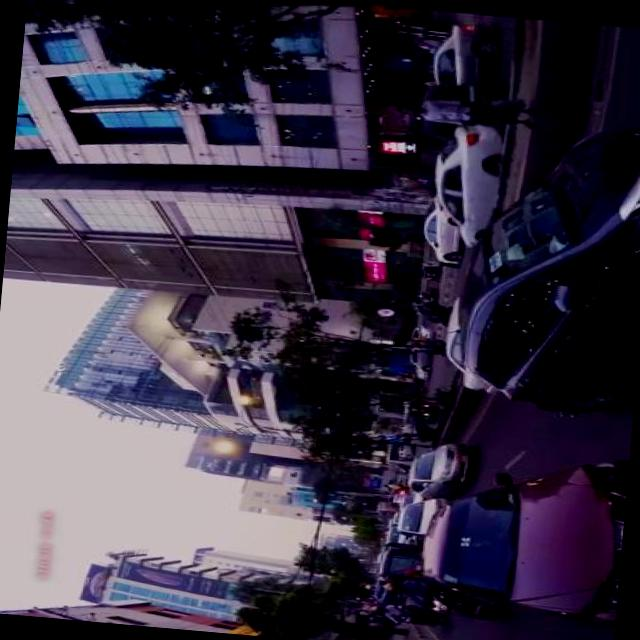bus: (374, 496, 393, 515)
car: (446, 107, 640, 415), (414, 439, 626, 622), (426, 118, 501, 248), (425, 20, 499, 118), (438, 295, 504, 391), (402, 435, 468, 499), (416, 192, 460, 262), (394, 490, 445, 536), (404, 343, 426, 378)
motorcycle: (413, 580, 503, 620), (376, 538, 424, 579), (386, 601, 439, 624)
